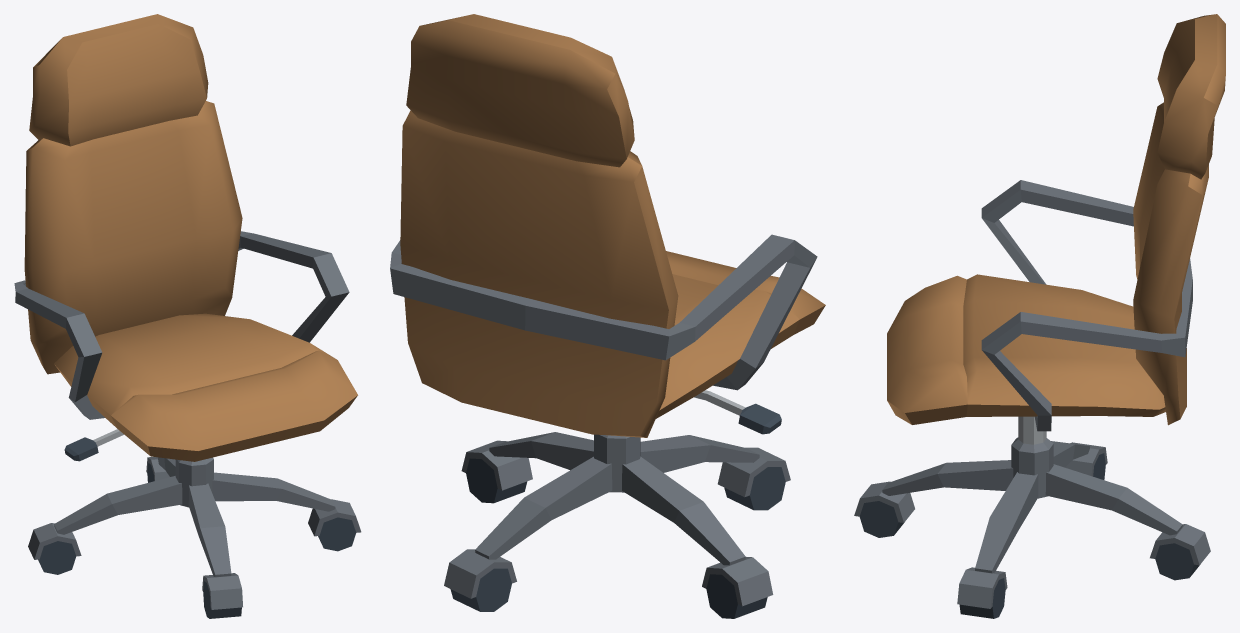
The model's file is Chair_03.FBX.
3 views of the same model, side by side, from view 1: azimuth 30°, elevation 25°; view 2: azimuth 150°, elevation 25°; view 3: azimuth 270°, elevation 25° (orthographic). The views are drawn at different scales.
Visible parts, largest first — view 1: Chair_03; view 2: Chair_03; view 3: Chair_03.
Part boxes in pixels (left/top/right/bottom): Chair_03: left=14, top=14, right=361, bottom=618; Chair_03: left=390, top=14, right=825, bottom=618; Chair_03: left=854, top=14, right=1225, bottom=618.
Bounding box in the file's own units: 67.95 × 108 × 70.81.
